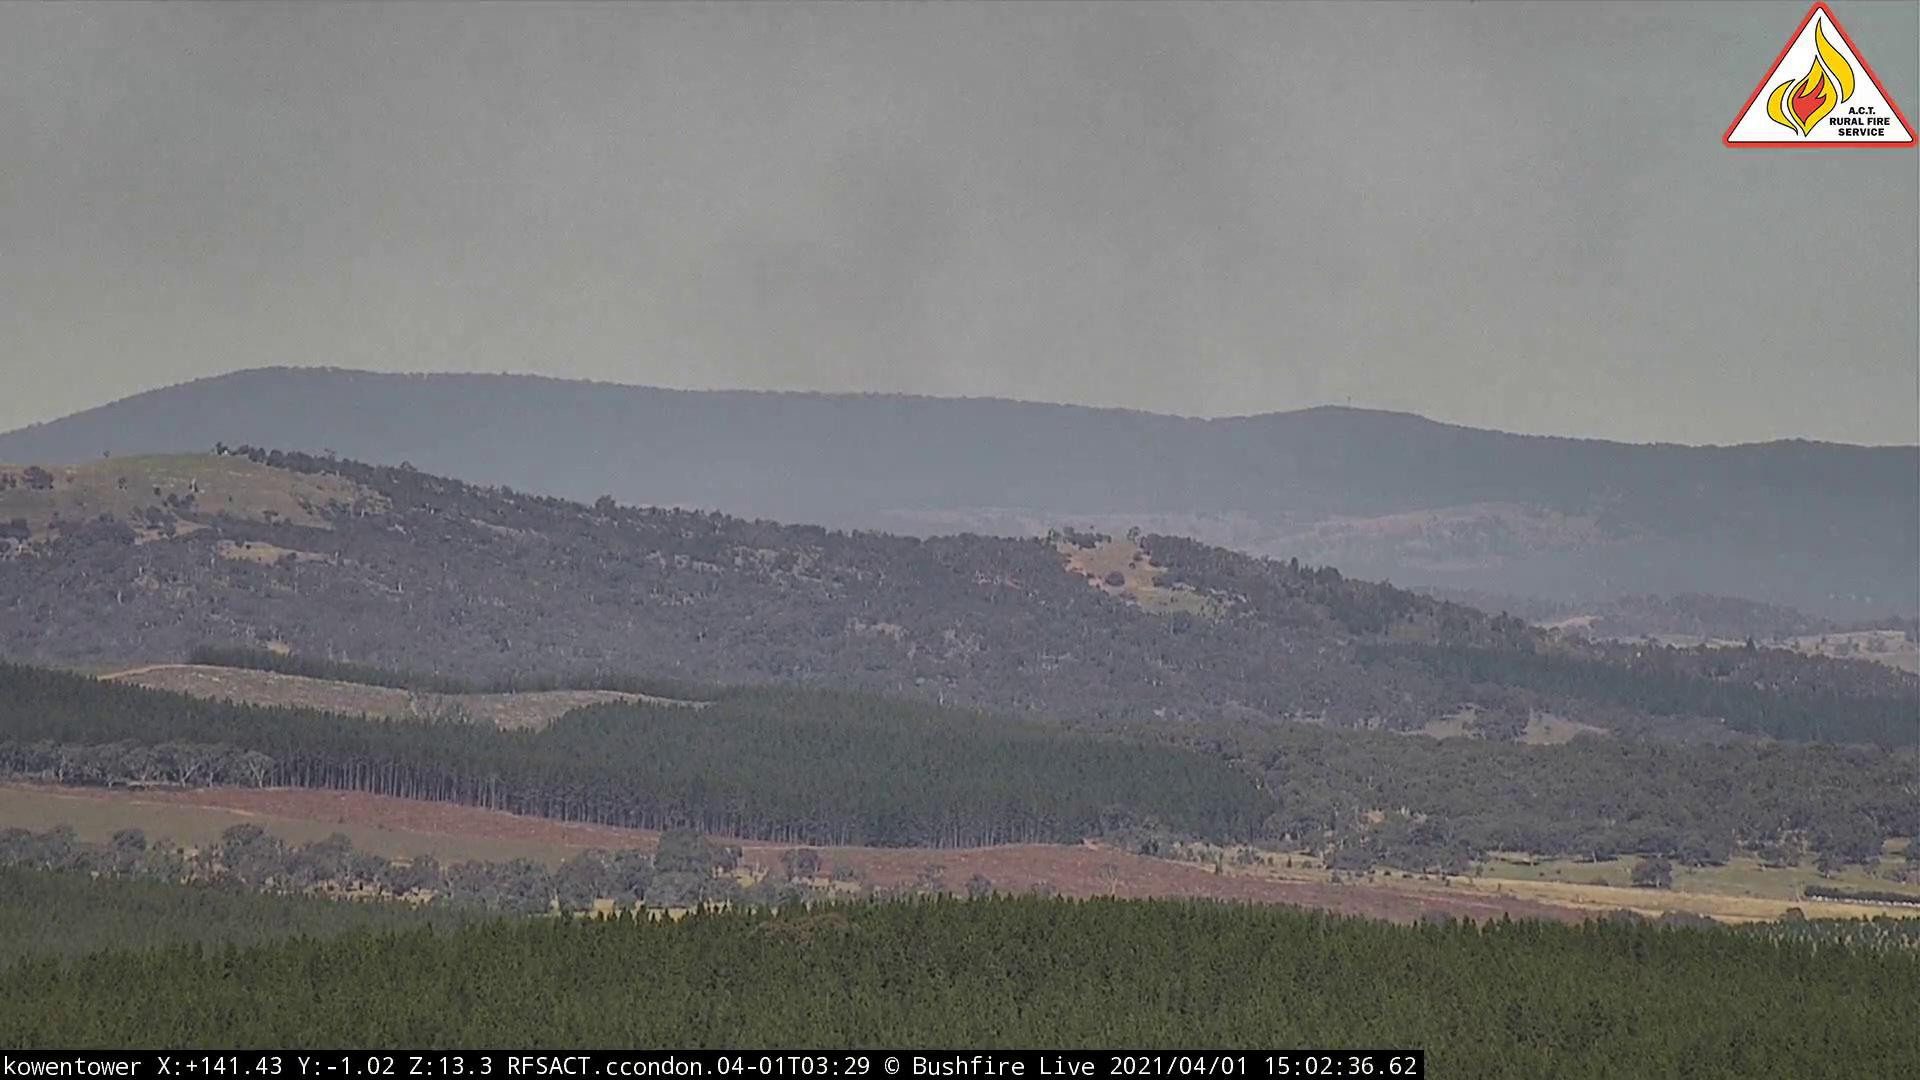Smoke: (363, 24, 1642, 450)
